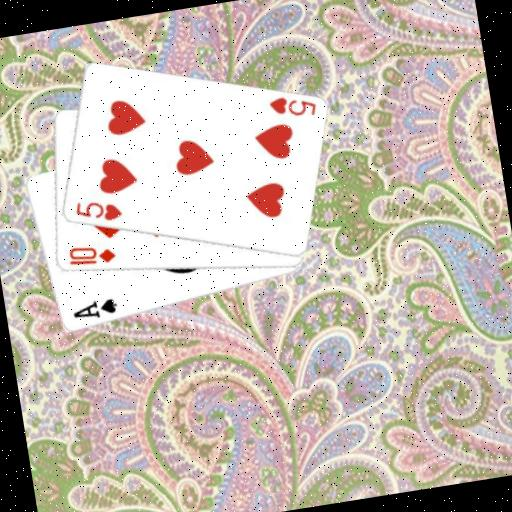10D: (63, 239, 117, 271)
5H: (70, 192, 124, 228), (264, 89, 318, 124)
AS: (67, 294, 119, 323)
